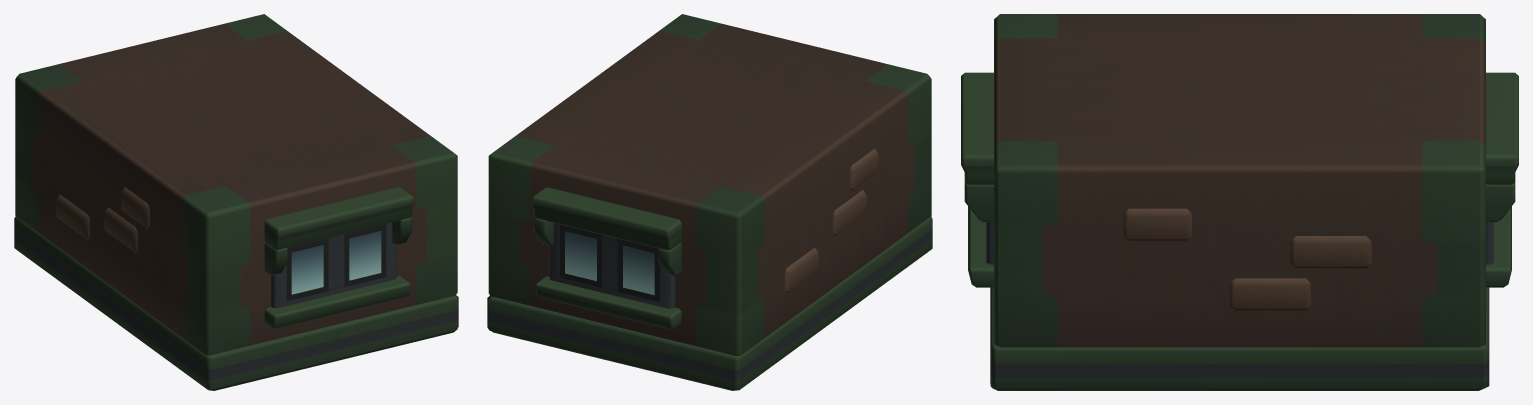
File: appartment_type3_element_brown.fbx
3 renders of one model, left to right at view 1: azimuth 30°, elevation 25°; view 2: azimuth 150°, elevation 25°; view 3: azimuth 270°, elevation 25°, orthographic. The views are drawn at different scales.
Visible parts, largest first — view 1: appartment_type3_element_brown; view 2: appartment_type3_element_brown; view 3: appartment_type3_element_brown.
Part boxes in pixels (x1,y1,x2,y2): appartment_type3_element_brown: [14, 14, 458, 390]; appartment_type3_element_brown: [487, 14, 932, 390]; appartment_type3_element_brown: [961, 14, 1518, 390].
Size of the model in its own units: 628 by 409 by 918.
